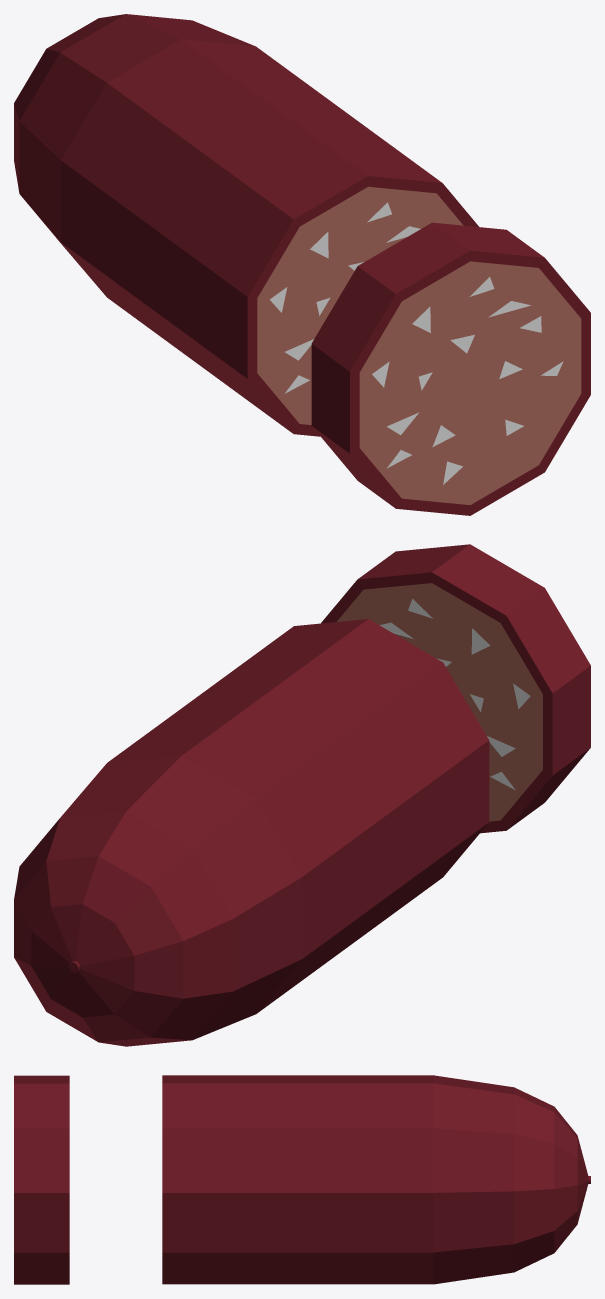
Rendered from SausageSlice.fbx.
3 renders of one model, top to bottom at view 1: azimuth 30°, elevation 25°; view 2: azimuth 150°, elevation 25°; view 3: azimuth 270°, elevation 25°, orthographic. The views are drawn at different scales.
Parts seen in each view (by area): view 1: Cylinder.018, Cylinder.001, Cylinder.020, Cylinder.003, Cylinder.004, Cylinder.002, Cylinder.019; view 2: Cylinder.018, Cylinder.007, Cylinder.003, Cylinder.005, Cylinder.006; view 3: Cylinder.018, Cylinder.003.
Boxes of the visible parts, x1,y1,x2,y2 form: Cylinder.018: (14, 14, 478, 436); Cylinder.001: (359, 261, 581, 504); Cylinder.020: (257, 186, 463, 424); Cylinder.003: (311, 222, 544, 508); Cylinder.004: (350, 250, 590, 515); Cylinder.002: (372, 277, 563, 484); Cylinder.019: (269, 202, 420, 393); Cylinder.018: (14, 619, 489, 1046); Cylinder.007: (337, 583, 542, 821); Cylinder.003: (358, 544, 590, 833); Cylinder.005: (321, 572, 552, 833); Cylinder.006: (379, 598, 530, 790); Cylinder.018: (162, 1075, 590, 1284); Cylinder.003: (14, 1075, 69, 1284).
Bounding box in the file's own units: 29.1 × 30.57 × 82.8.
